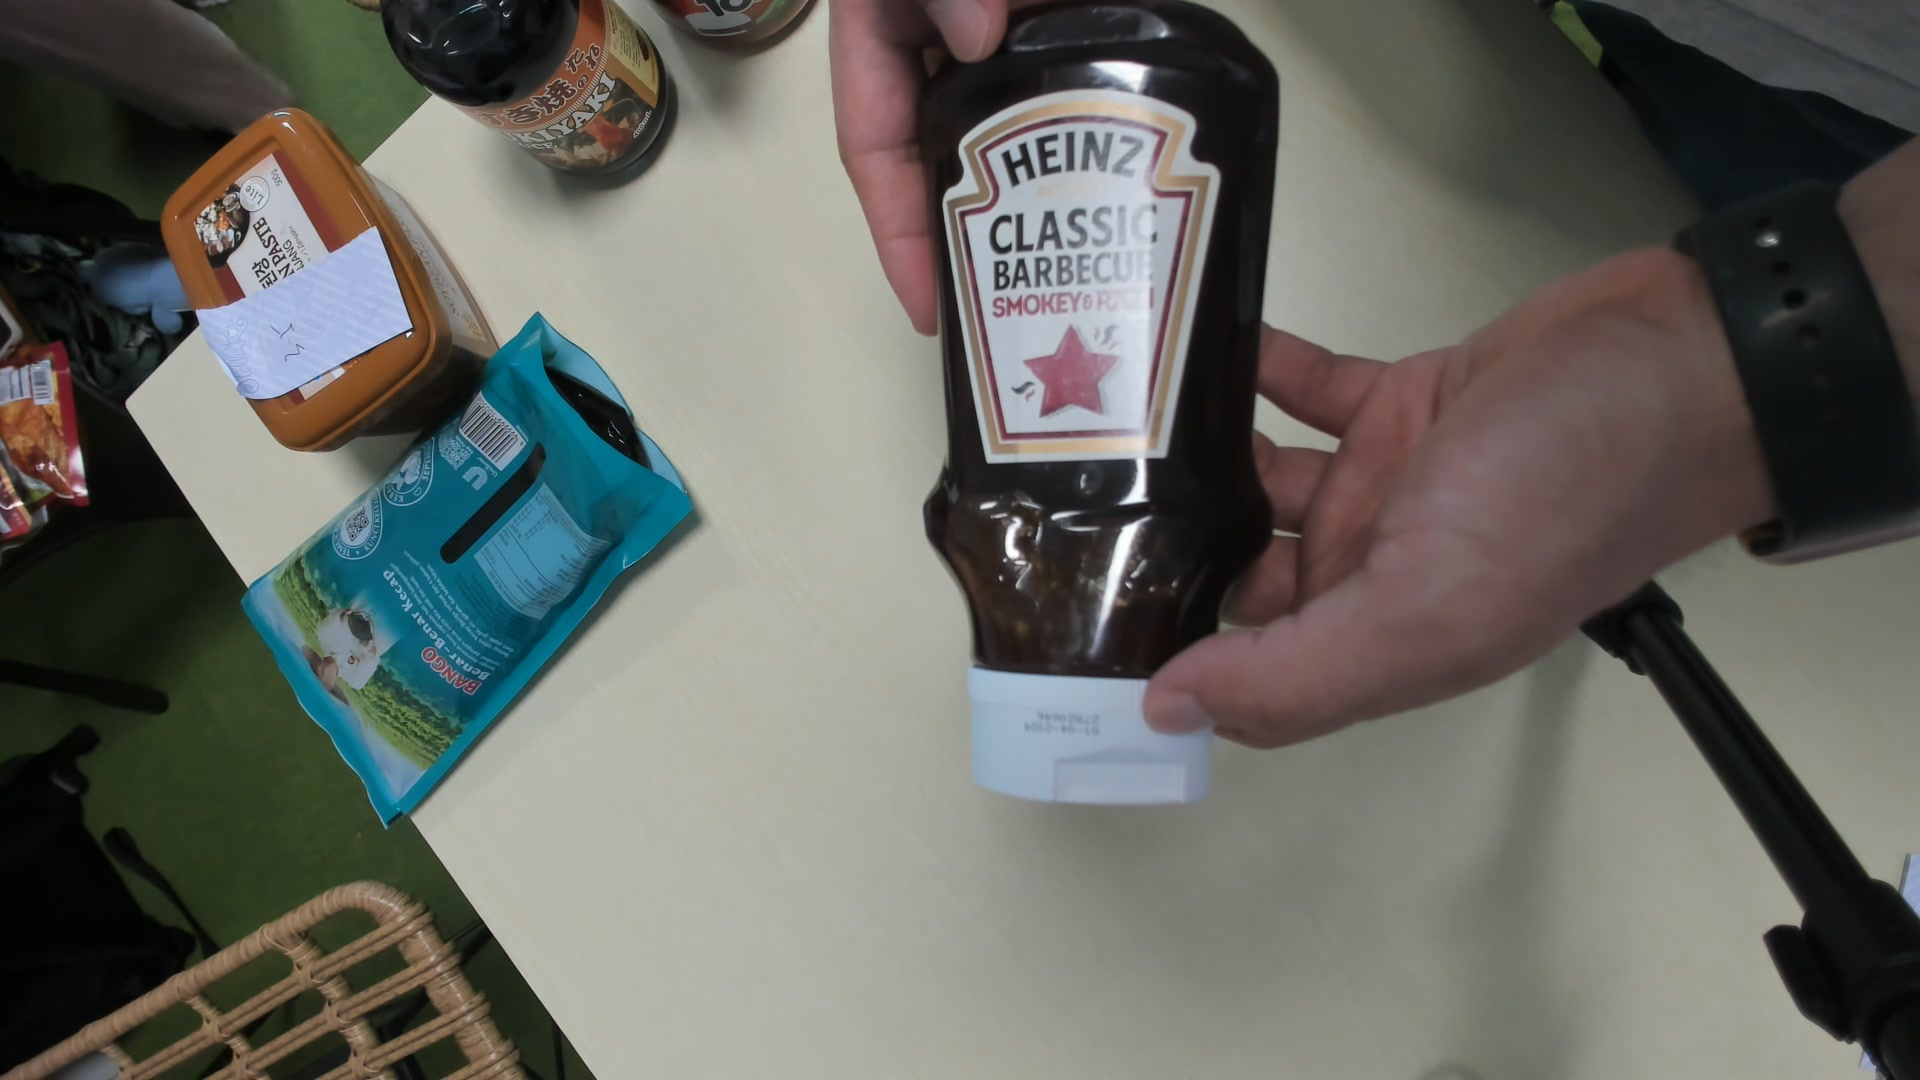OtherSauceDressing_400-499g_NonHalal_NonHealthy: (920, 1, 1279, 812)
